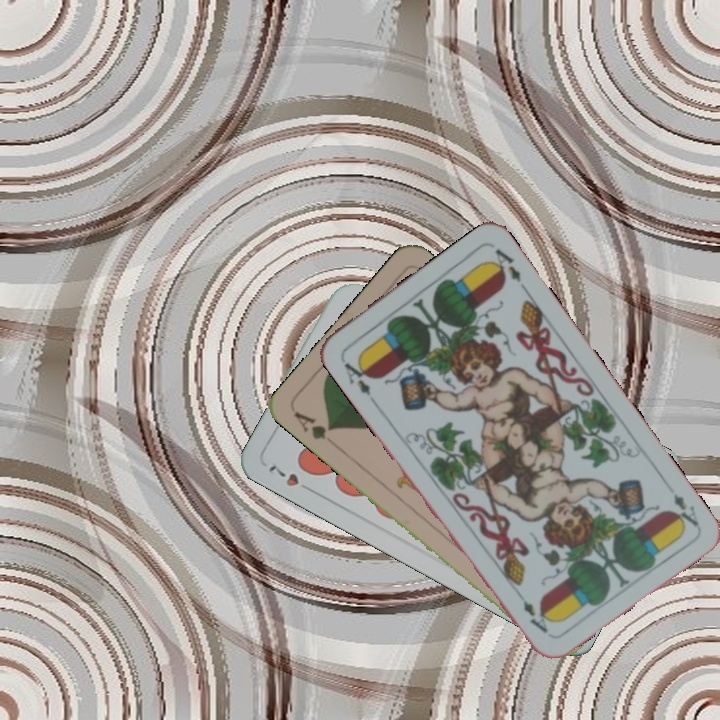EA: (337, 353, 376, 399), (667, 489, 701, 533)
GA: (289, 407, 337, 442)
H7: (264, 460, 302, 490)
